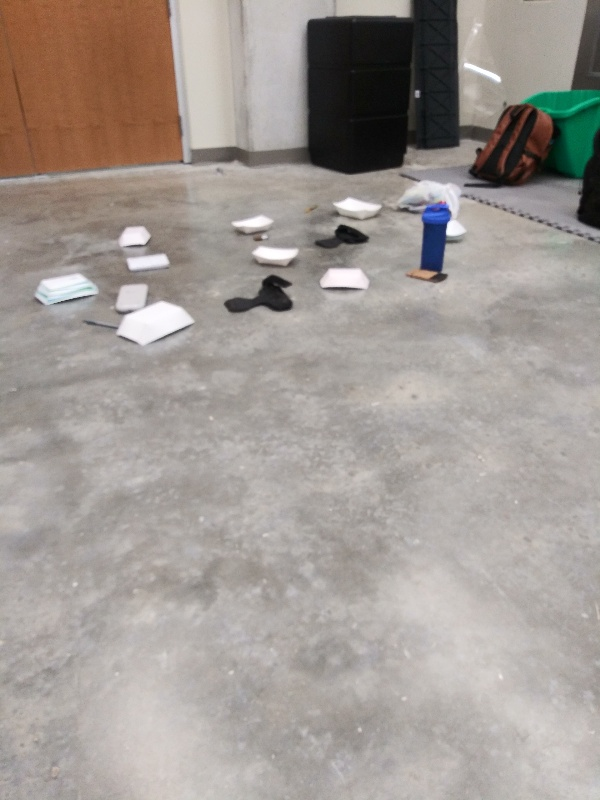plate: (114, 299, 196, 349), (29, 272, 104, 310), (328, 194, 386, 223), (317, 264, 375, 292), (250, 242, 303, 268), (228, 212, 276, 237), (115, 223, 155, 248), (444, 216, 469, 250)
